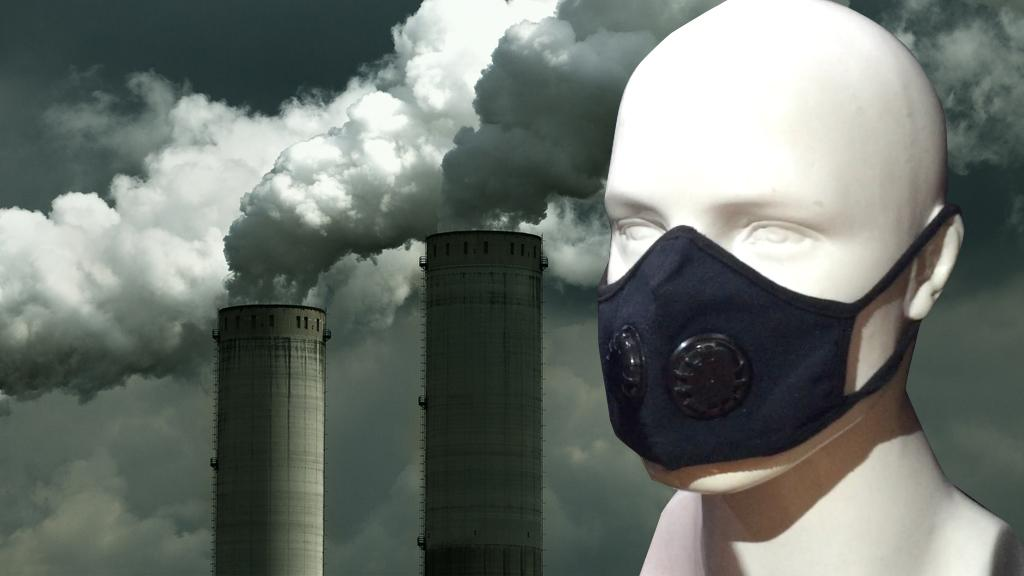Wearing Mask: (542, 1, 1001, 511)
